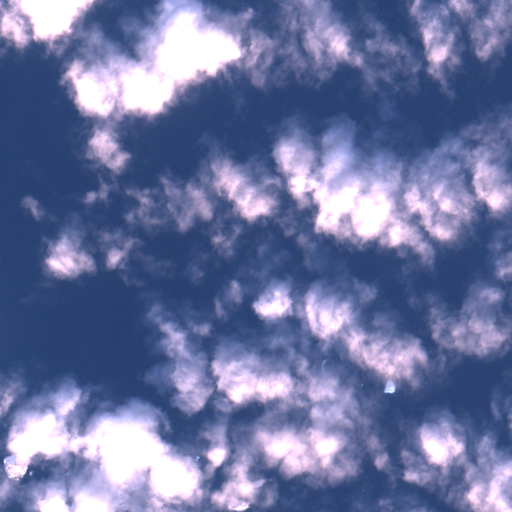Iceberg: (384, 380, 395, 393), (196, 456, 199, 460), (361, 384, 362, 385)
